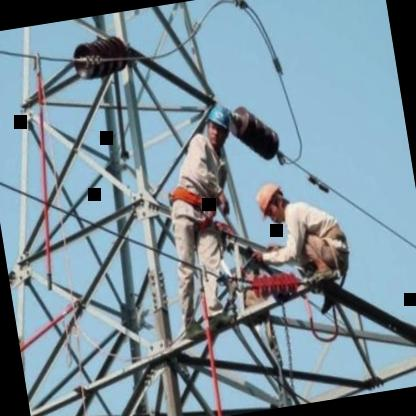helmet: (199, 95, 242, 150), (251, 177, 293, 229)
